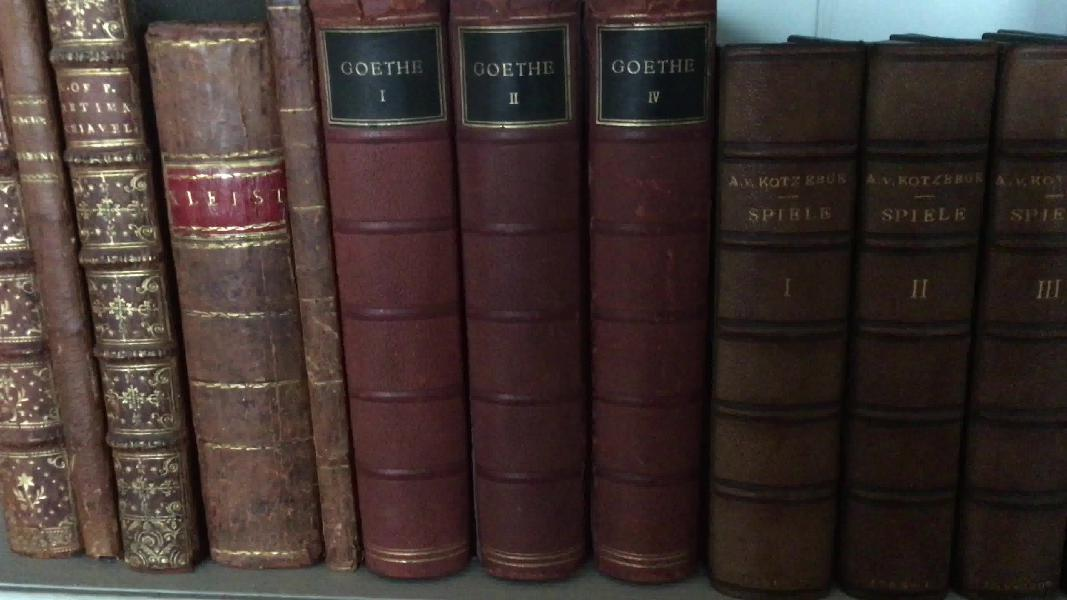Aa6-10: (268, 7, 383, 568)
Aa6-11_13: (311, 7, 705, 576)
Aa6-14_17: (709, 47, 1062, 600)
Aa6-7: (1, 13, 133, 572)
Aa6-8: (45, 1, 215, 576)
Aa6-9: (139, 16, 333, 576)
